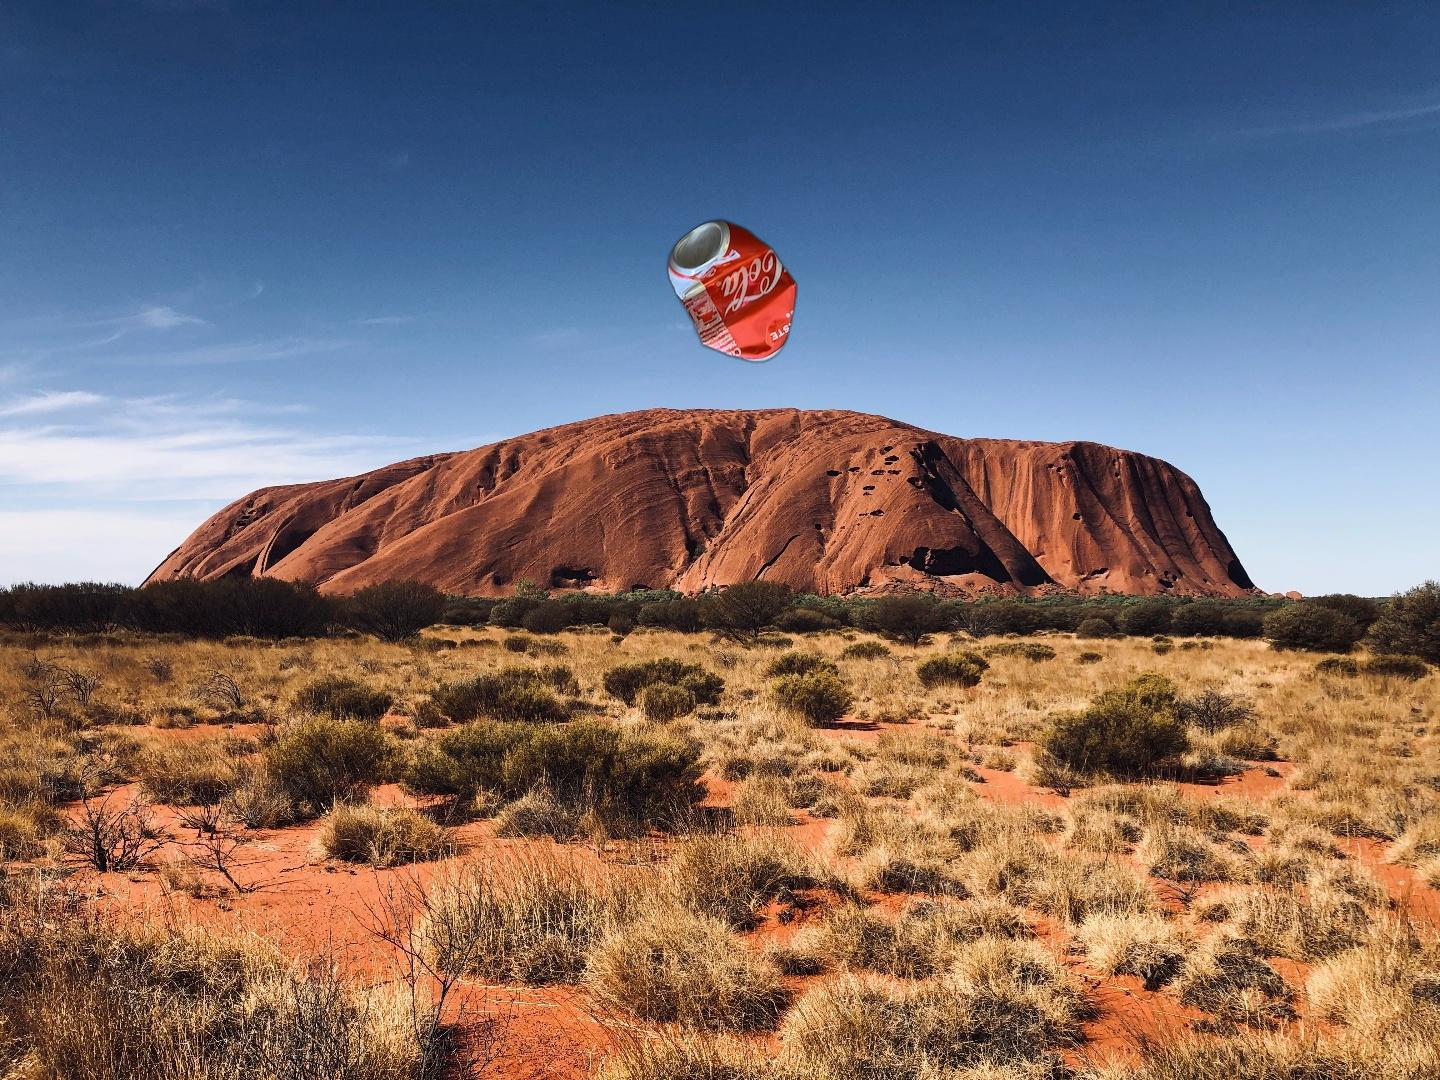metal-cans: (663, 214, 801, 368)
